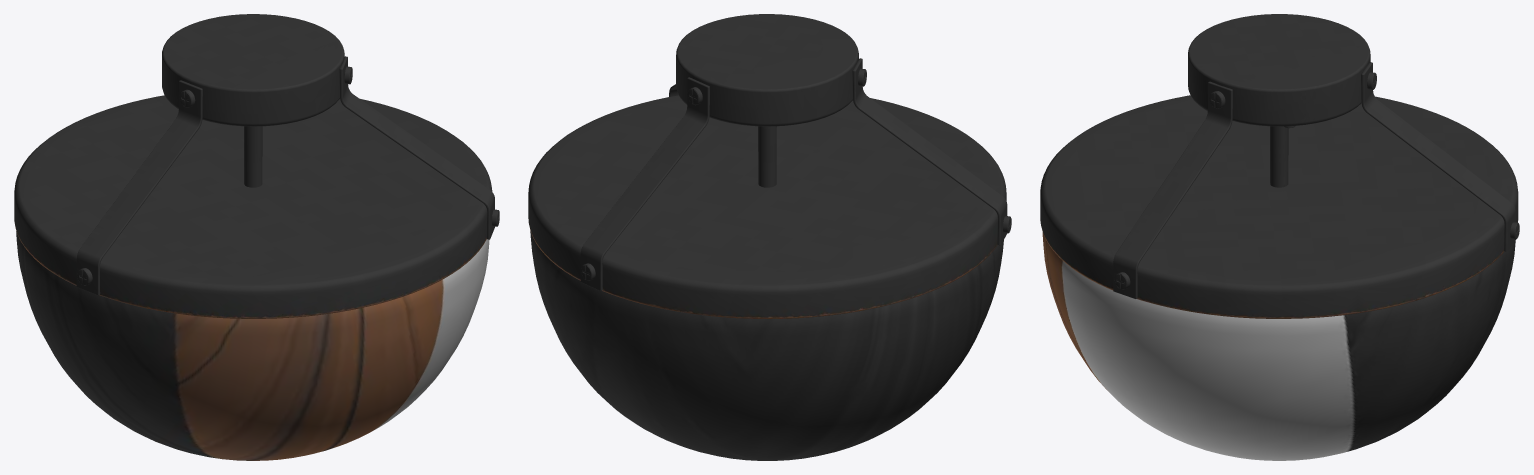
File: abo-B082JHT8Z6.glb
The picture shows the model from 3 angles, left to right: view 1: azimuth 30°, elevation 25°; view 2: azimuth 150°, elevation 25°; view 3: azimuth 270°, elevation 25°; orthographic projection.
Bounding box in the file's own units: 0.3039 × 0.269 × 0.3039.
Materials: 1 (1 with a texture image).
